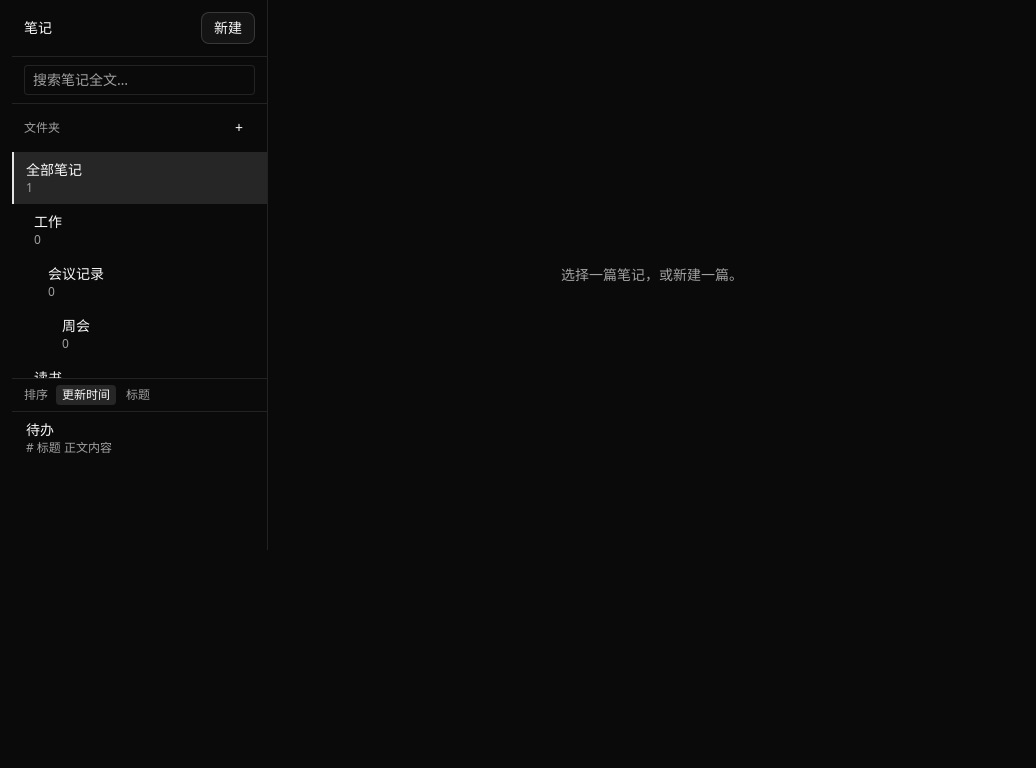
Test: NotesView › ★ 按住 Alt 临时显示渲染结果，松开还原，且编辑器不被卸载
Step 1. Click the text "待办" → click(40, 430), box [26,420,54,439]
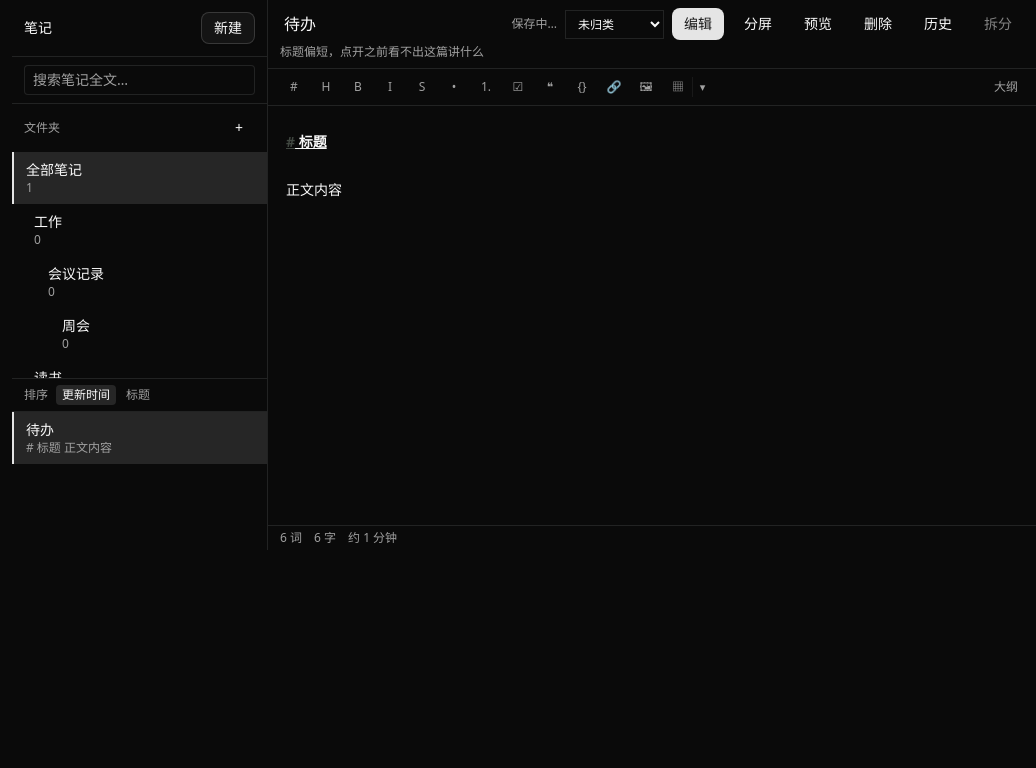
Now the element named "笔记正文" is shown, box [286,132,342,199]
Step 2. Press Alt
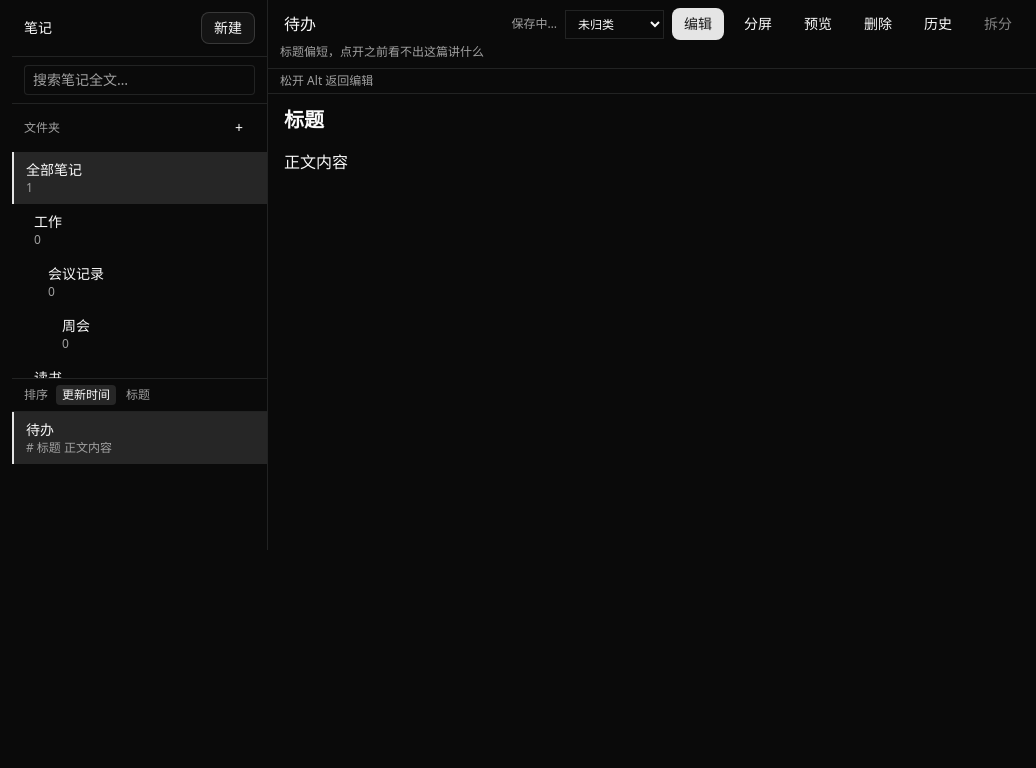
Now the element named "笔记正文" is shown, box [286,132,342,199]
Now the text "松开 Alt 返回编辑" is shown, box [268,69,1035,94]
// 松开 —— 预览层消失，编辑器还在
Step 3. Press Alt
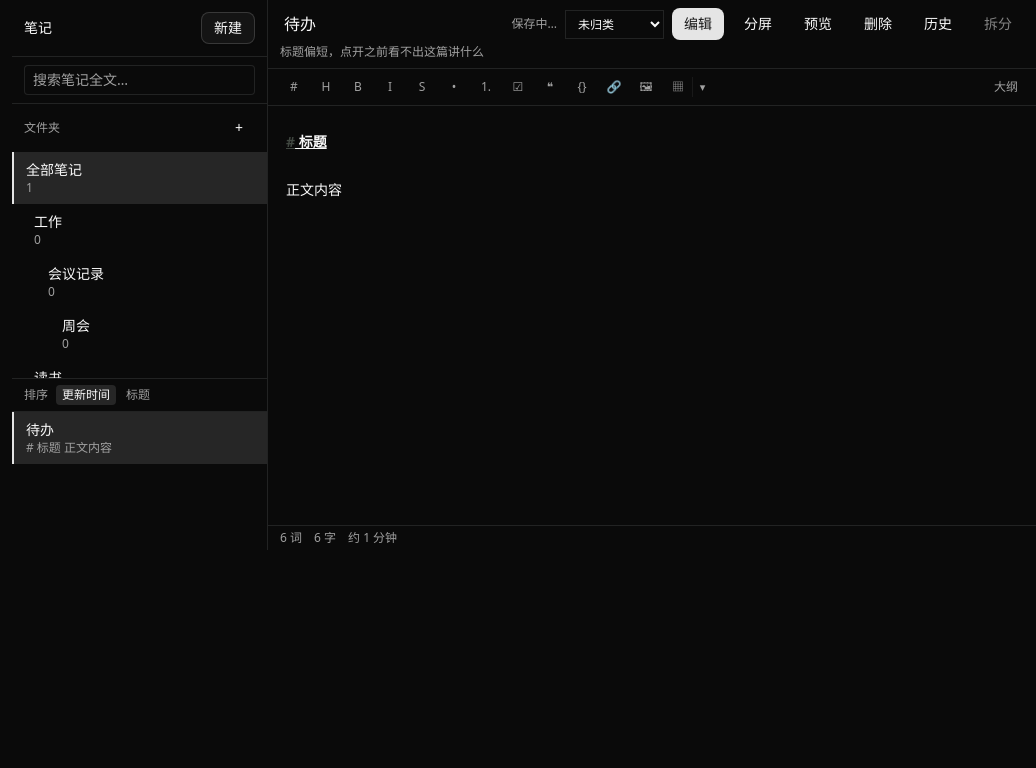
Now the element named "笔记正文" is shown, box [286,132,342,199]
Now the text "松开 Alt 返回编辑" is gone
